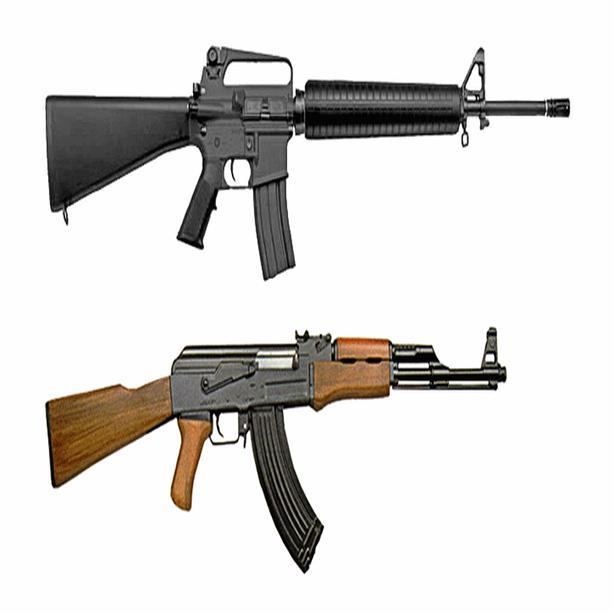Firearm: (24, 308, 548, 596), (20, 41, 587, 274)
